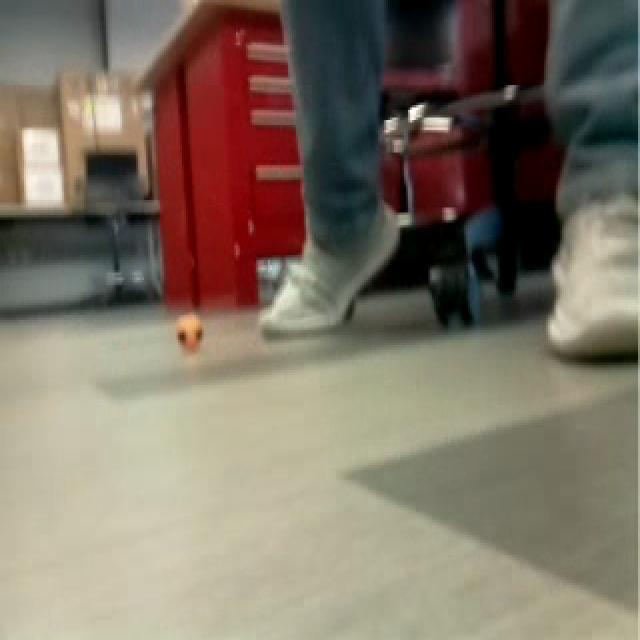oball: (168, 304, 208, 358)
